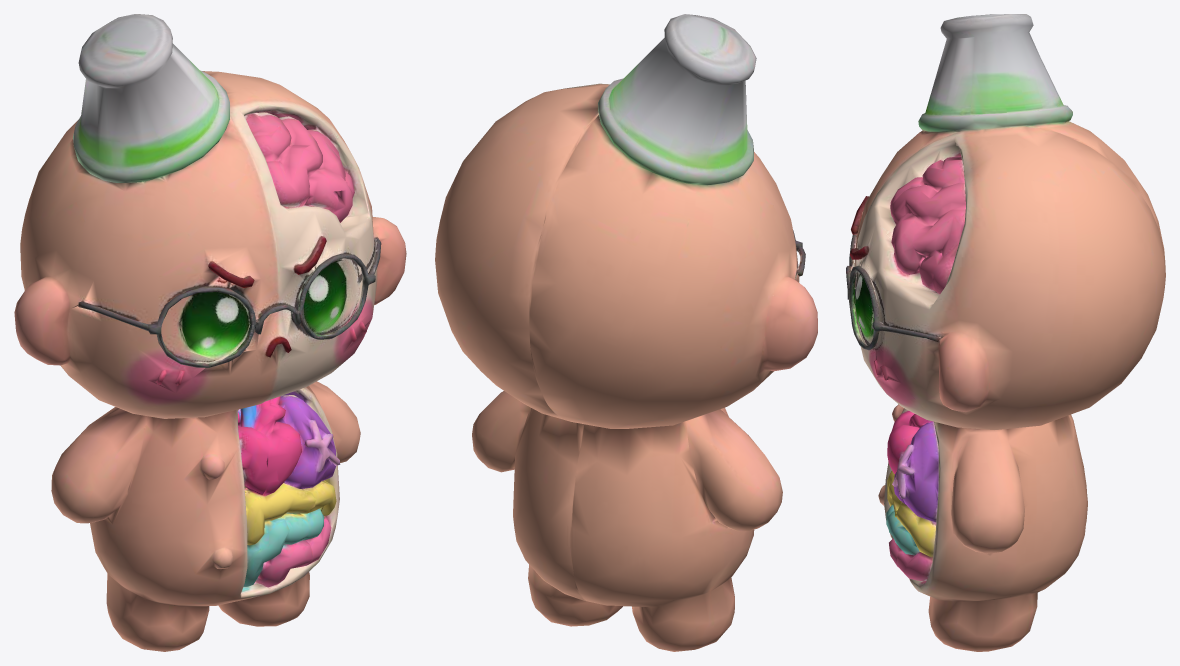
Rendered from boss_lab.glb.
3 views of the same model, side by side, from view 1: azimuth 30°, elevation 25°; view 2: azimuth 150°, elevation 25°; view 3: azimuth 270°, elevation 25° (orthographic). The views are drawn at different scales.
Visible parts, largest first — view 1: Low; view 2: Low; view 3: Low.
Part boxes in pixels (x1=…): Low: x1=14, y1=14, x2=406, y2=651; Low: x1=435, y1=14, x2=817, y2=651; Low: x1=846, y1=14, x2=1165, y2=651.
Size of the model in its own units: 0.847 by 1.35 by 0.676.
Materials: 1 (1 with a texture image).
